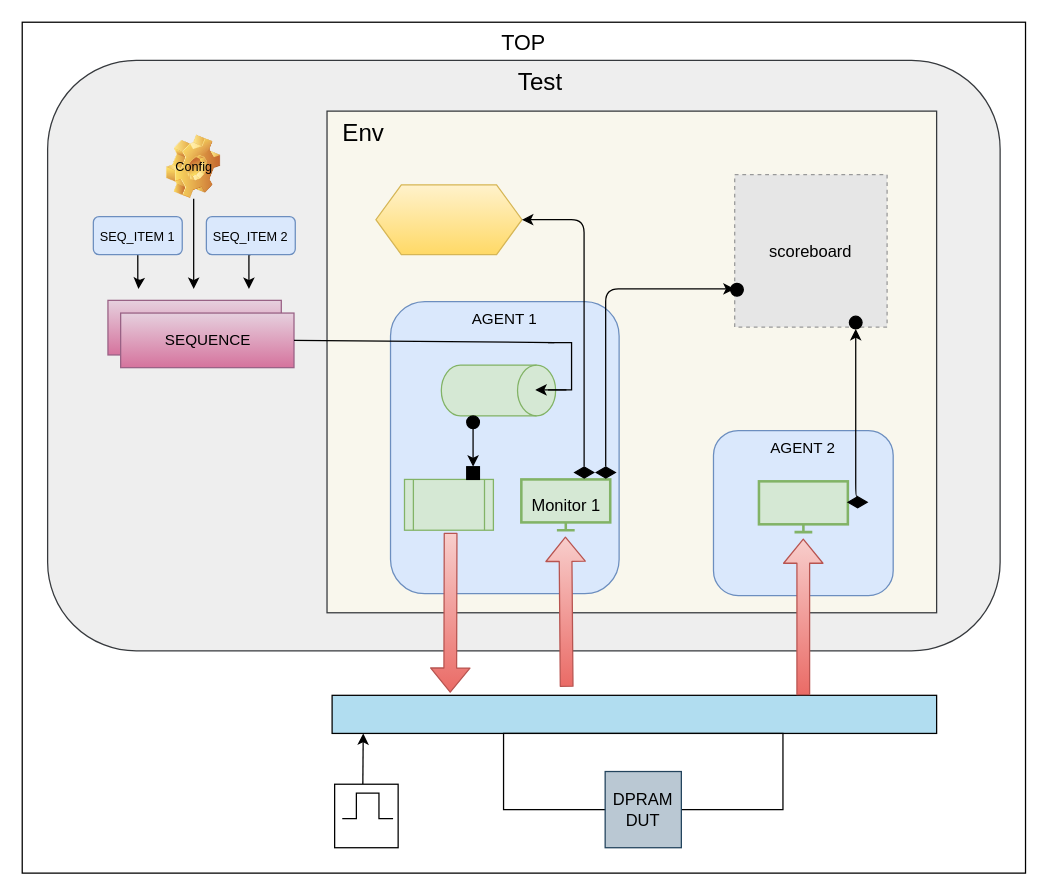
Image size: 1048x895. Some labels were removed from this diagram. Grey dashed boxes stand in for pictures. Each missing label, with the centre of its shape:
"Clk" belongs at point (367, 805).
"COVER GROUP (SUBSCRIBER)" belongs at point (448, 219).
"Driver" belongs at point (448, 504).
"Interface" belongs at point (634, 713).
"Monitor 2" belongs at point (802, 506).
"SEQUENCER" belongs at point (498, 390).
